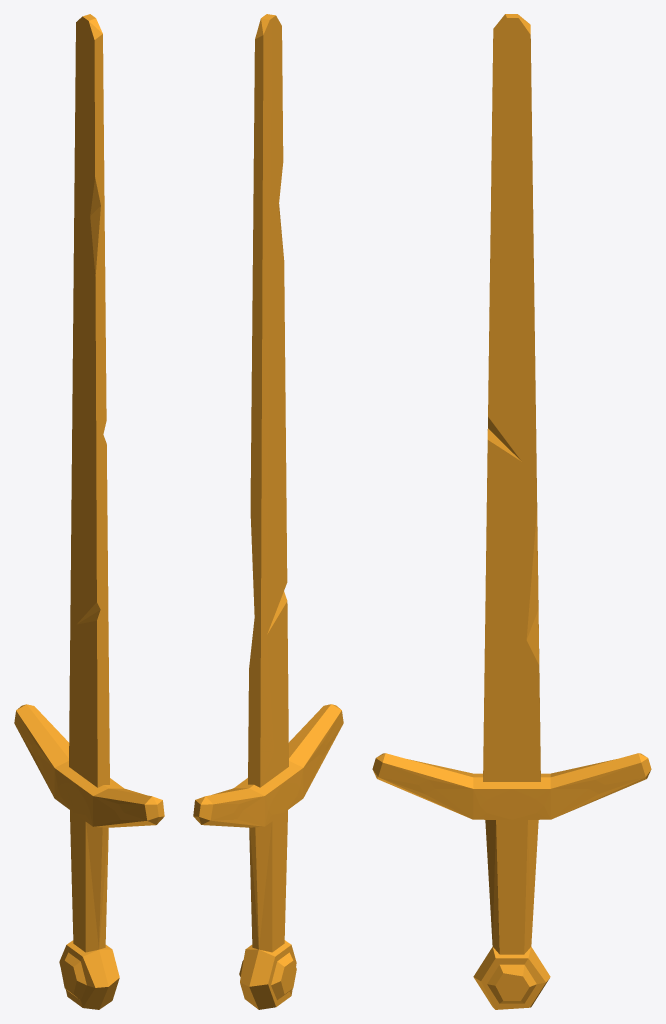
The model's file is SM_Sword_Training_Fantasy.fbx.
3 views of the same model, side by side, from view 1: azimuth 30°, elevation 25°; view 2: azimuth 150°, elevation 25°; view 3: azimuth 270°, elevation 25° (orthographic).
Parts seen in each view (by area): view 1: sword-training-fantasy; view 2: sword-training-fantasy; view 3: sword-training-fantasy.
Part boxes in pixels (bbox=[...]): sword-training-fantasy: bbox=[14, 14, 164, 1009]; sword-training-fantasy: bbox=[193, 14, 343, 1009]; sword-training-fantasy: bbox=[372, 14, 651, 1009].
Bounding box in the file's own units: 0.0445 × 1.02 × 0.2613.
